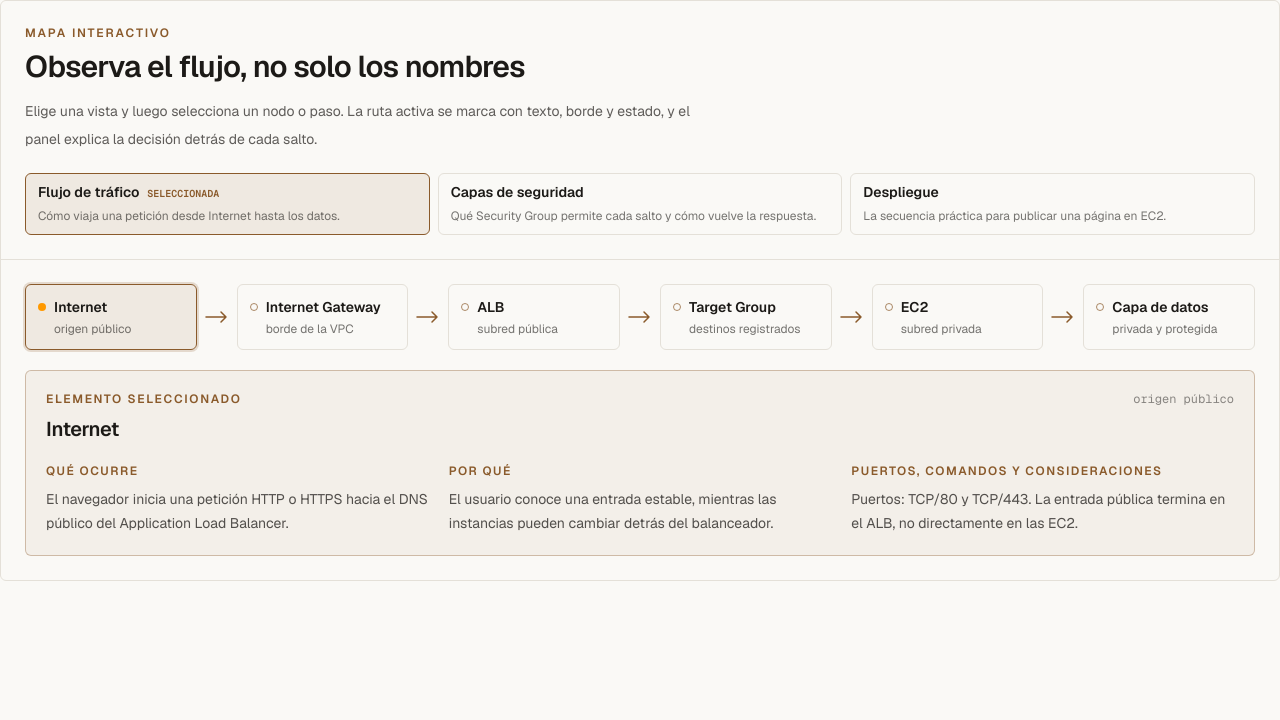
Test: AWSArchitectureDiagrams › selects nodes and exposes the explanation panel
Click the button with aria-label "ALB, subred pública" at (534, 317), box [448,284,620,350]
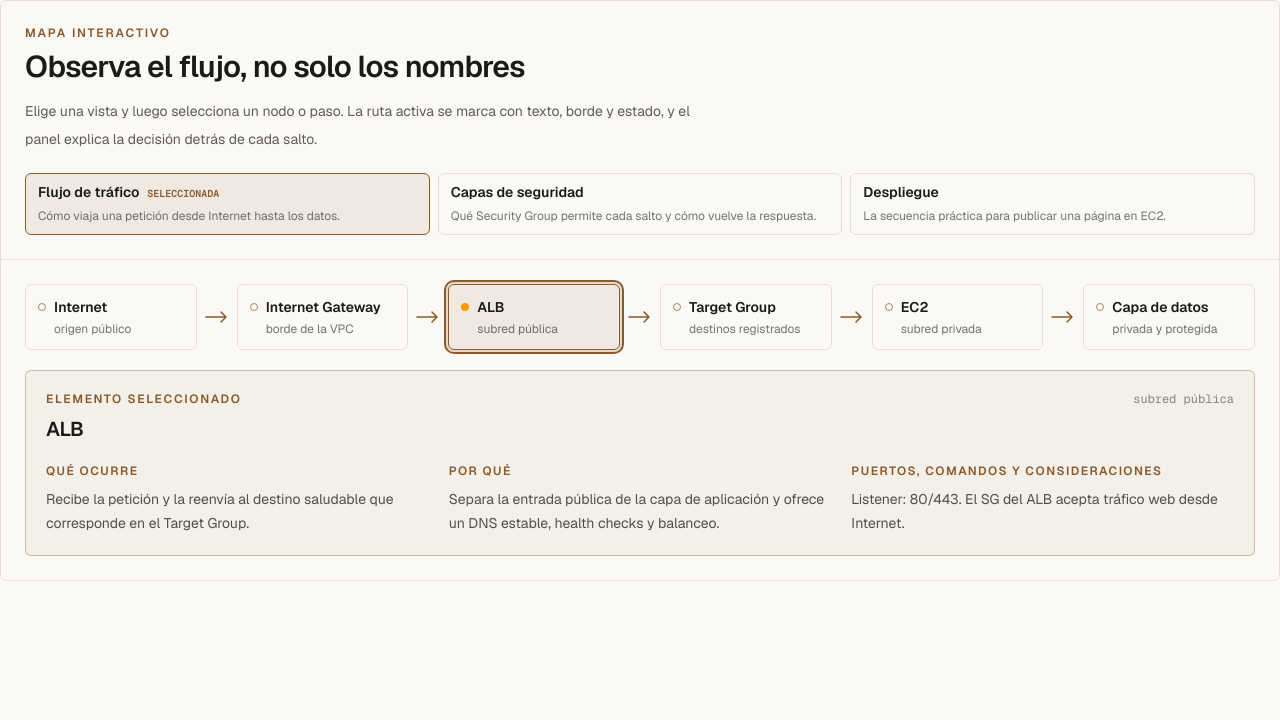
Expected: the heading "Qué ocurre" is shown, [46,463,139,479]
Result: the heading "ALB" is shown at [46,416,84,442]
Result: the text "Listener: 80/443" is shown at [851,490,1218,532]
